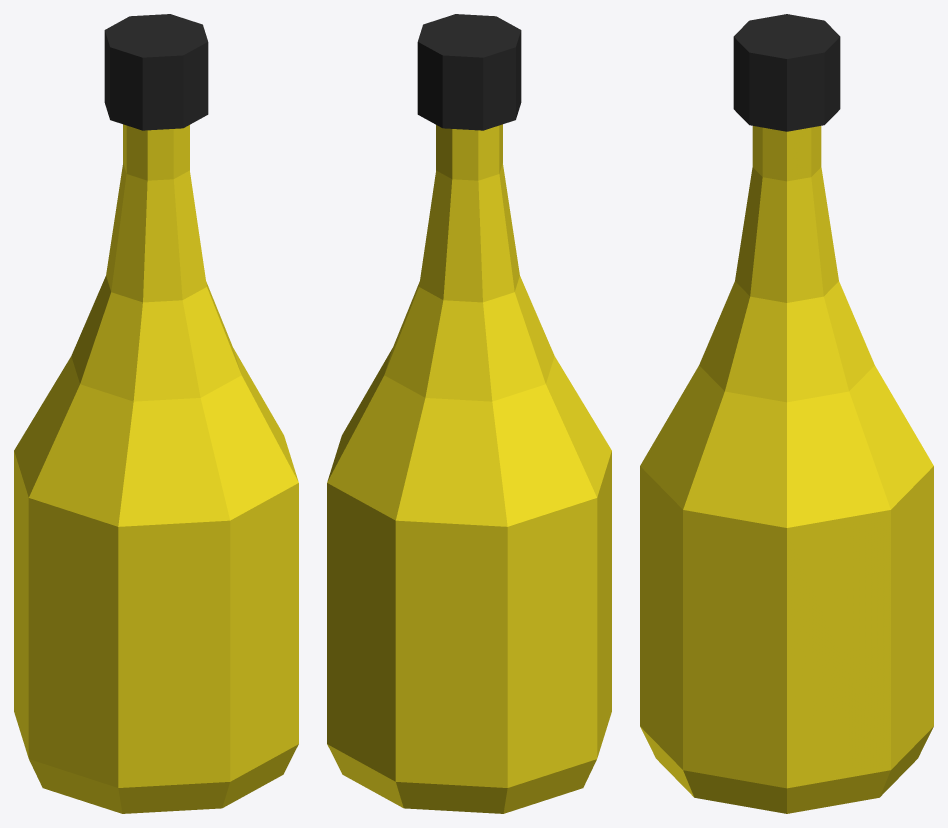
The model's file is Bottle_02.fbx.
3 renders of one model, left to right at view 1: azimuth 30°, elevation 25°; view 2: azimuth 150°, elevation 25°; view 3: azimuth 270°, elevation 25°, orthographic.
Visible parts, largest first — view 1: Bottle_02; view 2: Bottle_02; view 3: Bottle_02.
Boxes of the visible parts, x1=… form: Bottle_02: x1=14, y1=14, x2=298, y2=813; Bottle_02: x1=327, y1=14, x2=611, y2=813; Bottle_02: x1=640, y1=14, x2=933, y2=813.
Size of the model in its own units: 11.35 by 31.34 by 11.35.
